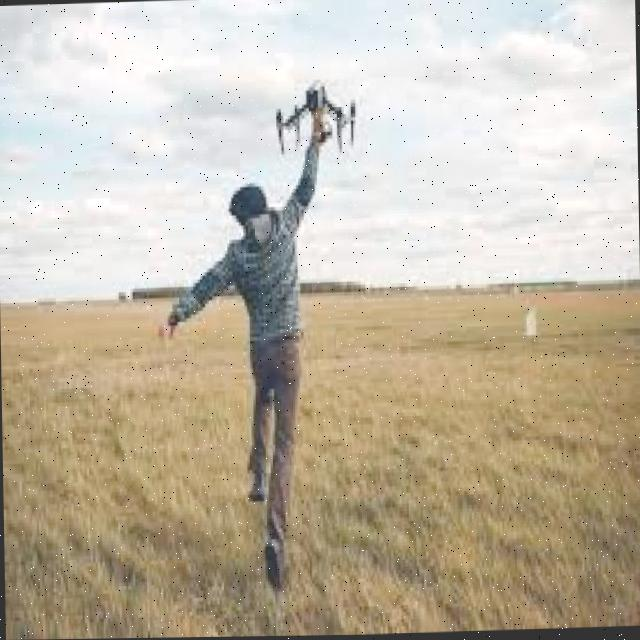drone: (256, 59, 372, 167)
